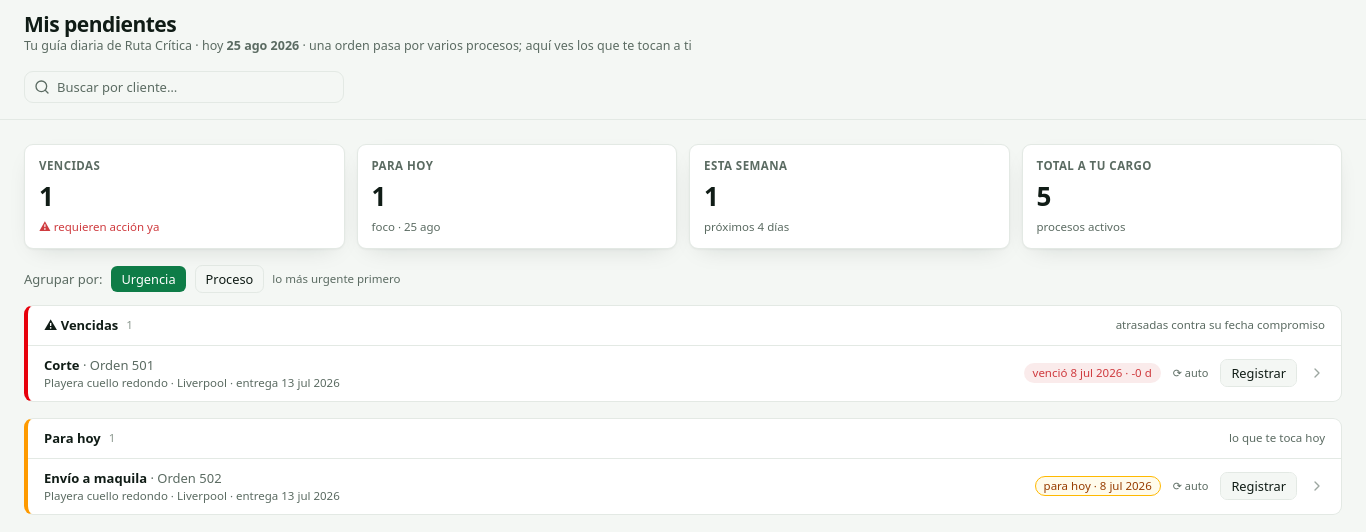
Scenario: <MisPendientesPagina> › agrupa por PROCESO con los conteos del resumen (server-side)
Step 1. Click the button with test id "pendientes-agrupar-proceso" → (230, 279), box [195,265,264,293]
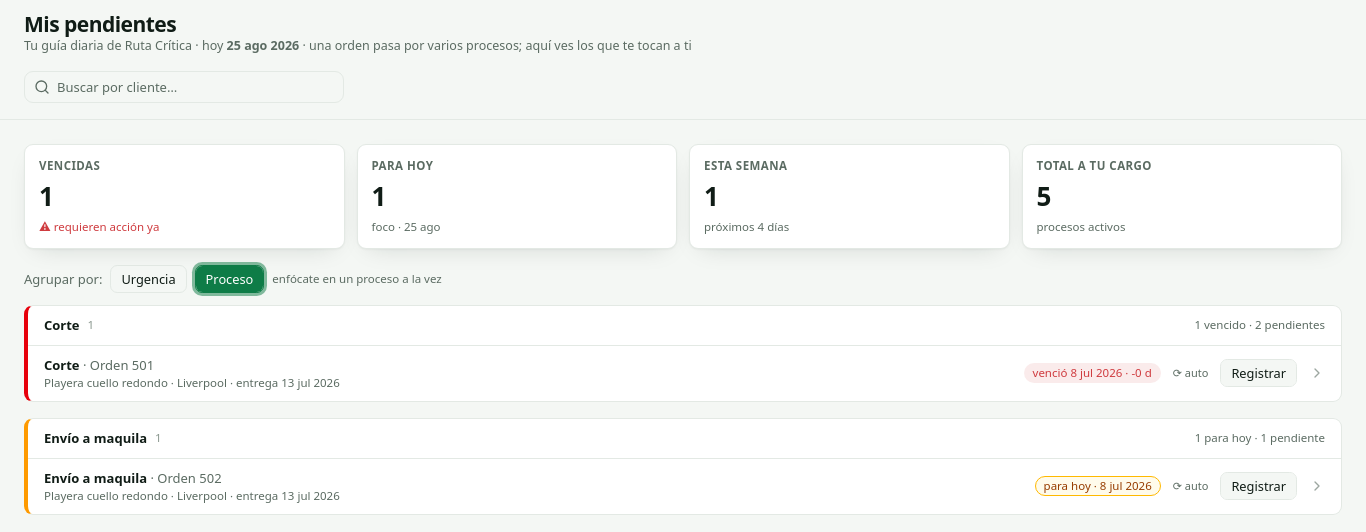
Expected: the element with test id "pendientes-seccion" shows "Corte", [44,316,80,334]
Expected: the element with test id "pendientes-seccion" shows "1 vencido", [1194,317,1325,332]
